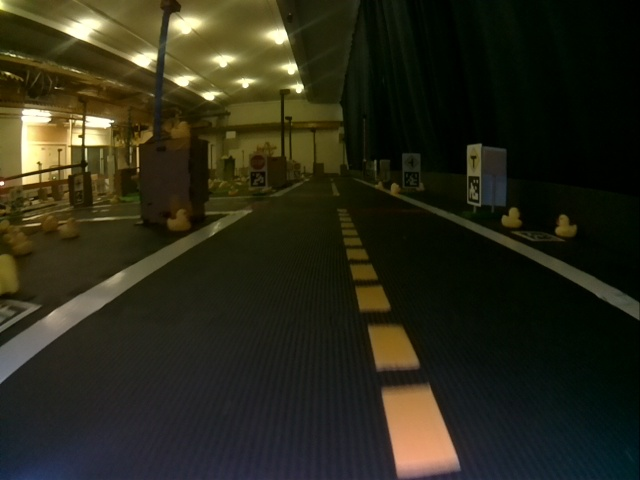Duckie: (1, 259, 18, 296), (556, 214, 577, 237), (167, 210, 190, 230), (14, 233, 32, 255), (502, 208, 520, 227), (171, 120, 190, 138), (59, 222, 75, 238), (391, 184, 401, 193), (375, 182, 384, 191)
Intersection sign: (470, 148, 480, 171)
QR code: (516, 229, 557, 243), (404, 171, 420, 188), (468, 176, 478, 202), (250, 173, 266, 186)
Stop sign: (249, 154, 264, 167)
